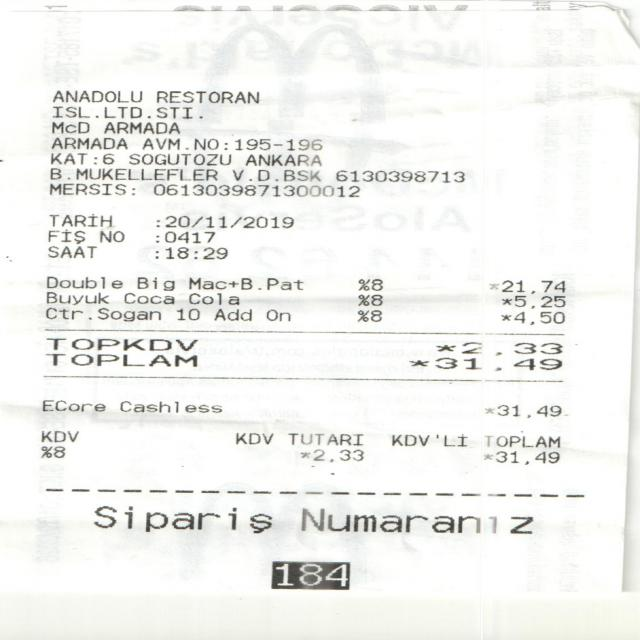text: (300, 508, 532, 532), (93, 505, 271, 533), (152, 183, 358, 196), (263, 560, 355, 589), (142, 137, 322, 150), (408, 356, 560, 370), (45, 353, 195, 366), (75, 167, 216, 180), (46, 338, 196, 350), (154, 215, 292, 228), (52, 106, 201, 118), (335, 169, 463, 182), (435, 342, 561, 355), (188, 276, 301, 290), (128, 152, 232, 165), (156, 90, 257, 103), (119, 400, 221, 412), (51, 90, 140, 102), (46, 275, 122, 289), (231, 170, 319, 182), (484, 450, 558, 464), (96, 306, 160, 322), (49, 183, 134, 195), (156, 246, 227, 259), (485, 405, 561, 417), (103, 122, 178, 134), (51, 136, 126, 148), (245, 154, 320, 166), (288, 433, 362, 445), (501, 279, 563, 293), (486, 435, 558, 447), (500, 295, 564, 308), (500, 311, 564, 324), (299, 448, 362, 461), (48, 213, 110, 226), (50, 152, 114, 164), (41, 399, 104, 411), (46, 292, 108, 304), (156, 230, 214, 242), (45, 229, 85, 244), (123, 292, 173, 304), (188, 292, 238, 304), (48, 245, 94, 257), (45, 306, 90, 318), (136, 276, 174, 290), (214, 307, 251, 321), (39, 429, 77, 442), (235, 432, 271, 444), (392, 434, 428, 446), (51, 122, 88, 133), (436, 434, 466, 446), (360, 308, 386, 321), (175, 307, 198, 320), (358, 278, 382, 290), (265, 309, 289, 320), (99, 231, 122, 242), (40, 446, 63, 457), (358, 294, 380, 305), (47, 167, 62, 179)
